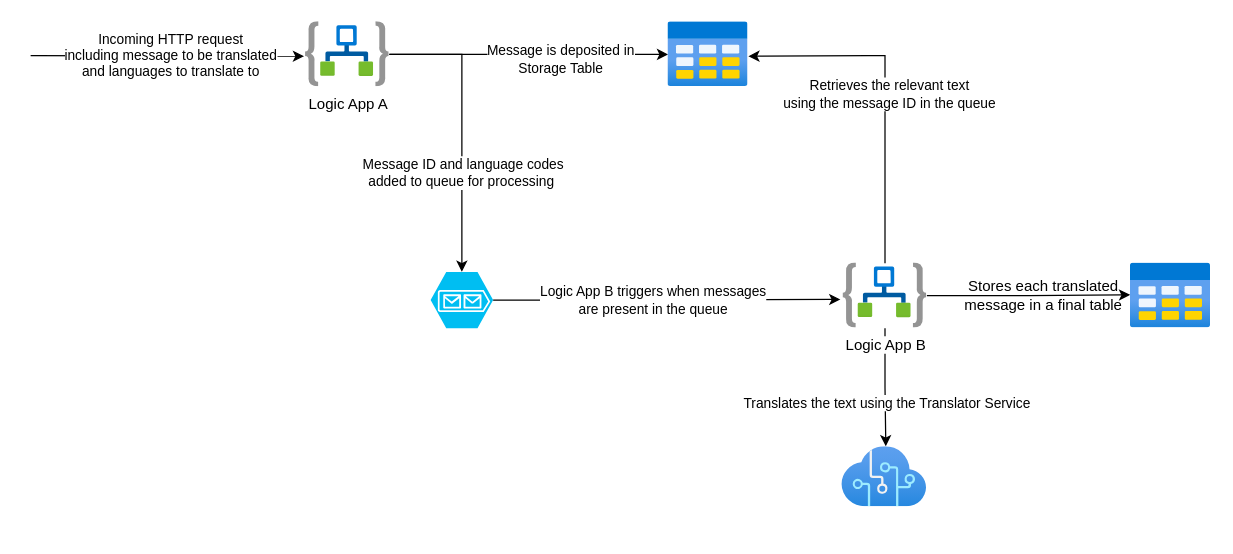
Some shapes in this 1233 by 554 pixel diagram are drawn without their labels. Each missing label, with the centre of its shape:
"Storage Queue" belongs at point (461, 299).
"Translator Service" belongs at point (883, 476).
